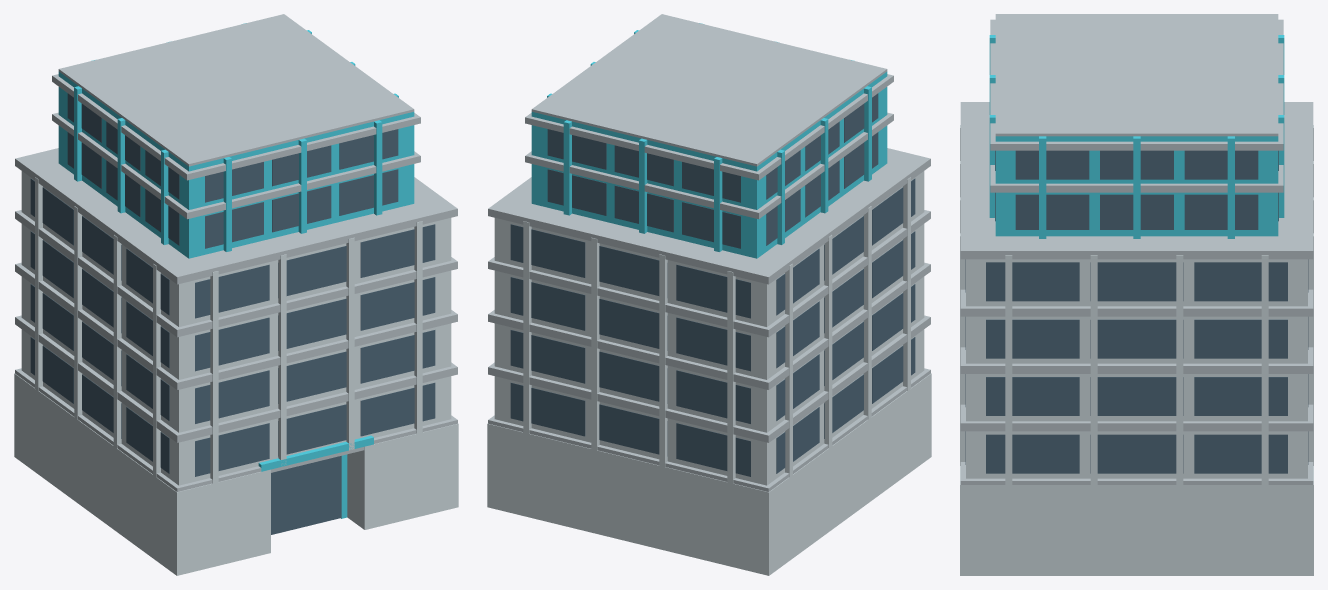
The model's file is building-basic-medium.glb.
3 views of the same model, side by side, from view 1: azimuth 30°, elevation 25°; view 2: azimuth 150°, elevation 25°; view 3: azimuth 270°, elevation 25° (orthographic). The views are drawn at different scales.
Parts seen in each view (by area): view 1: building-basic-medium_glazing, building-basic-medium_tier_1, building-basic-medium_bands, building-basic-medium_podium, building-basic-medium_roof, building-basic-medium_tier_2, building-basic-medium_entrance_glass, building-basic-medium_entrance_frame; view 2: building-basic-medium_glazing, building-basic-medium_podium, building-basic-medium_tier_1, building-basic-medium_bands, building-basic-medium_roof, building-basic-medium_tier_2; view 3: building-basic-medium_glazing, building-basic-medium_bands, building-basic-medium_roof, building-basic-medium_podium, building-basic-medium_tier_1, building-basic-medium_tier_2.
Boxes of the visible parts, x1,y1,x2,y2 form: building-basic-medium_glazing: [30, 93, 435, 476]; building-basic-medium_tier_1: [21, 171, 451, 485]; building-basic-medium_bands: [15, 74, 457, 491]; building-basic-medium_podium: [14, 373, 458, 575]; building-basic-medium_roof: [58, 14, 414, 166]; building-basic-medium_tier_2: [58, 23, 414, 258]; building-basic-medium_entrance_glass: [271, 456, 341, 534]; building-basic-medium_entrance_frame: [258, 435, 373, 518]; building-basic-medium_glazing: [510, 93, 915, 476]; building-basic-medium_podium: [487, 373, 931, 575]; building-basic-medium_tier_1: [494, 171, 924, 485]; building-basic-medium_bands: [488, 74, 930, 491]; building-basic-medium_roof: [531, 14, 887, 166]; building-basic-medium_tier_2: [531, 23, 887, 258]; building-basic-medium_glazing: [965, 150, 1308, 473]; building-basic-medium_bands: [960, 19, 1313, 484]; building-basic-medium_roof: [995, 14, 1278, 136]; building-basic-medium_podium: [960, 466, 1313, 575]; building-basic-medium_tier_1: [960, 125, 1313, 484]; building-basic-medium_tier_2: [989, 35, 1284, 238].
Bounding box in the file's own units: 12 × 16 × 12.
